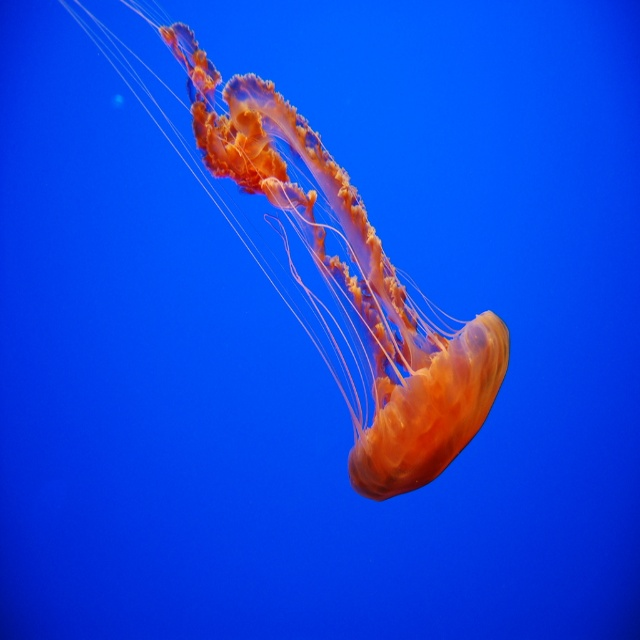Jellyfish: (59, 0, 510, 502)
